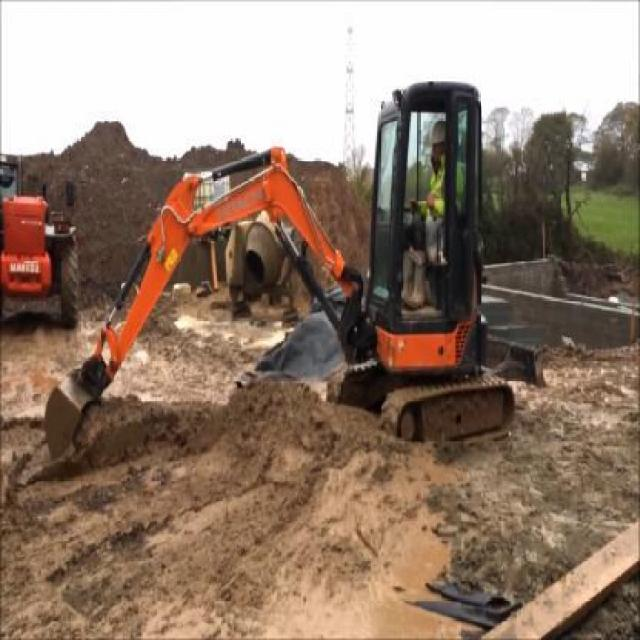Excavator: (42, 78, 550, 460), (1, 157, 79, 325)
